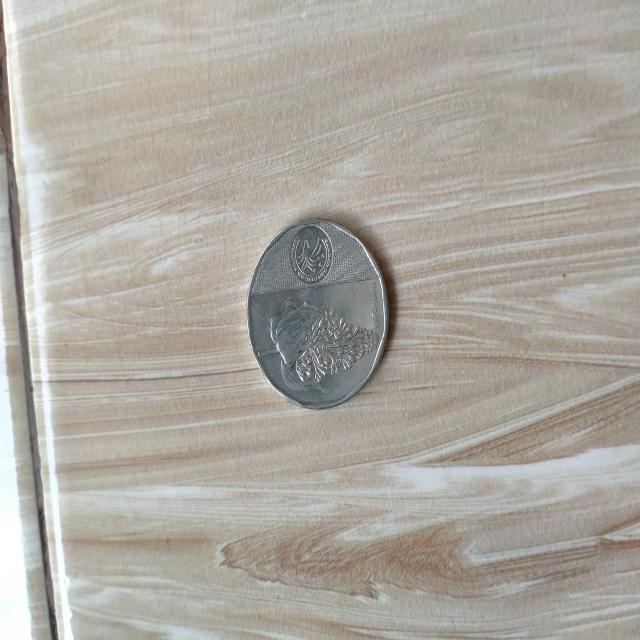10_New_Back: (258, 296, 386, 391)
